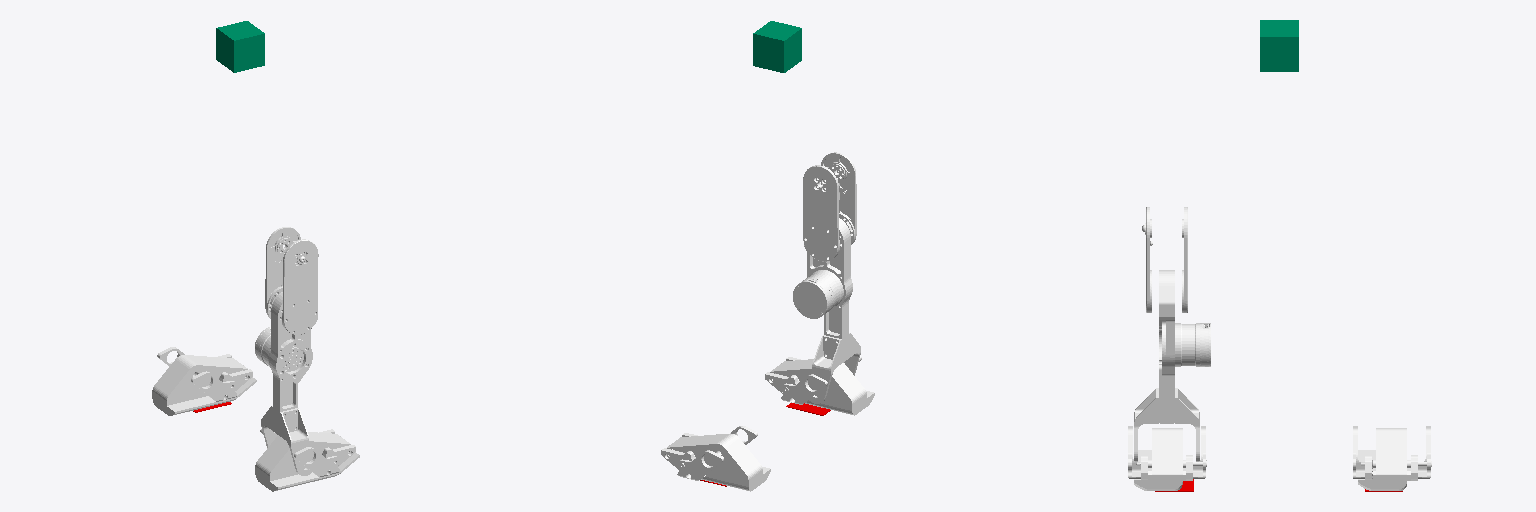
URDF robot description (fairy):
<?xml version="1.0" ?>
<!-- =================================================================================== -->
<!-- |    This document was autogenerated by xacro from fairy.urdf.xacro               | -->
<!-- |    EDITING THIS FILE BY HAND IS NOT RECOMMENDED                                 | -->
<!-- =================================================================================== -->
<robot name="fairy">
  <!-- link rviz colors -->
  <material name="White">
    <color rgba="1 1 1 1"/>
  </material>
  <material name="Black">
    <color rgba="0 0 0 1"/>
  </material>
  <material name="Red">
    <color rgba="1 0 0 1"/>
  </material>
  <!-- new base link -->
  <link name="base_link">
    </link>
  <!-- joint between base_link and body_link -->
  <joint name="base_to_body" type="fixed">
    <origin rpy="0 0 0" xyz="0 0 0"/>
    <parent link="base_link"/>
    <child link="body_link"/>
  </joint>
  <!-- body link -->
  <link name="body_link">
    <visual>
      <origin rpy="0 0 0" xyz="0 0 0"/>
      <geometry>
        <mesh filename="package://fairy_description/meshes/BASE.STL" scale="1 1 1"/>
        <!-- <mesh filename="package://fairy_description/meshes/base.stl" scale="0.001 0.001 0.001"/> -->
      </geometry>
      <material name="White"/>
    </visual>
    <collision>
      <origin rpy="0 0 0" xyz="0 0 0"/>
      <geometry>
        <mesh filename="package://fairy_description/meshes/BASE.STL" scale="1 1 1"/>
      </geometry>
    </collision>
    <inertial>
      <mass value="12.72349"/>
      <origin rpy="0 0 0" xyz="-0.00 0.00 -0.00474"/>
      <inertia ixx="0.1" ixy="0.0000" ixz="0.000000" iyy="0.1" iyz="0.0" izz="0.1"/>
    </inertial>
  </link>
  <!-- IMU sensor -->
  <link name="imu_link">
    <inertial>
      <mass value="0.001"/>
      <origin rpy="0 0 0" xyz="0 0 0"/>
      <inertia ixx="0.000001" ixy="0.0" ixz="0.0" iyy="0.000001" iyz="0.0" izz="0.000001"/>
    </inertial>
    <visual>
      <geometry>
        <box size="0.05 0.05 0.05"/>
      </geometry>
      <origin rpy="0 0 0" xyz="0 0 0"/>
    </visual>
  </link>
  <joint name="base_to_imu" type="fixed">
    <parent link="base_link"/>
    <child link="imu_link"/>
    <origin rpy="0 0 0" xyz="0 0 0"/>
  </joint>
  <gazebo>
    <plugin filename="libgazebo_ros_imu.so" name="imu_plugin">
      <ros>
        <remapping>my_imu:=/imu/data</remapping>
      </ros>
      <alwaysOn>true</alwaysOn>
      <updateRate>50.0</updateRate>
      <bodyName>imu_link</bodyName>
      <gaussianNoise>0.0</gaussianNoise>
    </plugin>
  </gazebo>
  <!-- left forward joint -->
  <joint name="base_to_left_forward_base" type="fixed">
    <origin rpy="0 0 0" xyz="0.000 0.0800 0"/>
    <parent link="body_link"/>
    <child link="L_FOOT"/>
  </joint>
  <!-- base link -->
  <link name="L_FOOT">
    <inertial>
      <mass value="0.001"/>
      <inertia ixx="0.000000" ixy="0.000000" ixz="0.000000" iyy="0.000000" iyz="0.000000" izz="0.000000"/>
    </inertial>
  </link>
  <!-- joint 1 -->
  <joint name="L_CROTCH_R" type="revolute">
    <origin rpy="0 0 0" xyz="0 0 0.0"/>
    <axis rpy="0 0 0" xyz="1 0 0"/>
    <limit effort="1000.0" lower="-2.0943951023931953" upper="2.0943951023931953" velocity="2.0943951023931953"/>
    <parent link="L_FOOT"/>
    <child link="L1"/>
  </joint>
  <!-- link 1 -->
  <link name="L1">
    <visual>
      <origin rpy="0 0 0" xyz="0 0 0"/>
      <geometry>
        <mesh filename="package://fairy_description/meshes/LHIP.STL"/>
      </geometry>
      <material name="White"/>
    </visual>
    <collision>
      <origin rpy="0 0 0" xyz="0 0 0"/>
      <geometry>
        <mesh filename="package://fairy_description/meshes/LHIP.STL" scale="0.002 0.002 0.002"/>
      </geometry>
      <surface>
        <friction>
          <ode>
            <mu>1.0</mu>
            <mu2>1.0</mu2>
          </ode>
        </friction>
      </surface>
    </collision>
    <inertial>
      <origin xyz="-0.00 -0.0 0.00000"/>
      <mass value="1.23047"/>
      <inertia ixx="0.1" ixy="0.0000" ixz="0.000000" iyy="0.1" iyz="0.0" izz="0.1"/>
    </inertial>
  </link>
  <!-- joint 2 -->
  <joint name="L_CROTCH_P" type="revolute">
    <origin rpy="0 0 0" xyz="0 0.065 0"/>
    <axis rpy="0 0 0" xyz="0 1 0"/>
    <limit effort="1000.0" lower="-2.9670597283903604" upper="0.5235987755982988" velocity="2.0943951023931953"/>
    <parent link="L1"/>
    <child link="L2"/>
  </joint>
  <!-- link 2 -->
  <link name="L2">
    <visual>
      <origin rpy="0 0 0" xyz="0 0 0"/>
      <geometry>
        <mesh filename="package://fairy_description/meshes/LULEG.STL"/>
      </geometry>
      <material name="White"/>
    </visual>
    <collision>
      <origin rpy="0 0 0" xyz="0 0 0"/>
      <geometry>
        <mesh filename="package://fairy_description/meshes/LULEG.STL"/>
      </geometry>
      <surface>
        <friction>
          <ode>
            <mu>1.0</mu>
            <mu2>1.0</mu2>
          </ode>
        </friction>
      </surface>
    </collision>
    <inertial>
      <origin xyz="0.00006 -0.0 -0.05962"/>
      <mass value="2.06632"/>
      <inertia ixx="0.1" ixy="0.0000" ixz="0.000000" iyy="0.1" iyz="0.0" izz="0.1"/>
    </inertial>
  </link>
  <!-- joint 3 -->
  <joint name="L_KNEE_P" type="revolute">
    <axis rpy="0 0 0" xyz="0 1 0"/>
    <limit effort="1000.0" lower="-2.0943951023931953" upper="3.141592653589793" velocity="2.0943951023931953"/>
    <origin rpy="0 0 0" xyz="0 0 -0.2600"/>
    <parent link="L2"/>
    <child link="L3"/>
  </joint>
  <!-- link 3 -->
  <link name="L3">
    <visual>
      <origin rpy="0 0 0" xyz="0 0 0"/>
      <geometry>
        <mesh filename="package://fairy_description/meshes/LLLEG.STL"/>
      </geometry>
      <material name="White"/>
    </visual>
    <collision>
      <origin rpy="0 0 0" xyz="0 0 0"/>
      <geometry>
        <mesh filename="package://fairy_description/meshes/LLLEG.STL"/>
      </geometry>
      <surface>
        <friction>
          <ode>
            <mu>1.0</mu>
            <mu2>1.0</mu2>
          </ode>
        </friction>
      </surface>
    </collision>
    <inertial>
      <origin xyz="0.00000 -0.00 -0.19822"/>
      <mass value="0.41492"/>
      <inertia ixx="0.1" ixy="0.0000" ixz="0.000000" iyy="0.1" iyz="0.0" izz="0.1"/>
    </inertial>
  </link>
  <!-- joint 4 -->
  <joint name="L_TOE_P" type="revolute">
    <axis rpy="0 0 0" xyz="0 1 0"/>
    <limit effort="1000.0" lower="-2.0943951023931953" upper="2.0943951023931953" velocity="2.0943951023931953"/>
    <origin rpy="0 0 0" xyz="0 0 -0.30056"/>
    <parent link="L3"/>
    <child link="L4"/>
  </joint>
  <!-- link 4 -->
  <link name="L4">
    <visual>
      <origin rpy="0 0 0" xyz="0 0 0"/>
      <geometry>
        <mesh filename="package://fairy_description/meshes/LTOE.STL"/>
      </geometry>
      <material name="White"/>
    </visual>
    <collision>
      <origin rpy="0 0 0" xyz="0 0 0"/>
      <geometry>
        <mesh filename="package://fairy_description/meshes/LTOE.STL"/>
      </geometry>
      <surface>
        <friction>
          <ode>
            <mu>1.0</mu>
            <mu2>1.0</mu2>
          </ode>
        </friction>
      </surface>
    </collision>
    <inertial>
      <origin xyz="0.00000 -0.00 -0.04246"/>
      <mass value="0.001"/>
      <inertia ixx="0.1" ixy="0.0000" ixz="0.000000" iyy="0.1" iyz="0.0" izz="0.1"/>
    </inertial>
  </link>
  <!-- tip link with spring-damper system -->
  <joint name="L_TIP" type="fixed">
    <origin rpy="0 0 0" xyz="0.0 0 -0.035"/>
    <parent link="L4"/>
    <child link="L_TIP"/>
    <dynamics damping="0.05" spring_stiffness="1000.0"/>
  </joint>
  <link name="L_TIP">
    <visual>
      <origin rpy="0 0 0" xyz="0.02 -0.01 -0.015"/>
      <geometry>
        <box size="0.06 0.05 0.001"/>
      </geometry>
      <material name="Red"/>
    </visual>
    <collision>
      <origin rpy="0 0 0" xyz="0 0 0"/>
      <geometry>
        <box size="0.06 0.05 0.001"/>
      </geometry>
      <surface>
        <friction>
          <ode>
            <mu>1.5</mu>
            <mu2>1.5</mu2>
          </ode>
        </friction>
      </surface>
    </collision>
    <inertial>
      <origin xyz="0 0 0"/>
      <mass value="0.001"/>
      <inertia ixx="0.0001" ixy="0.0001" ixz="0.0001" iyy="0.0001" iyz="0.0001" izz="0.0001"/>
    </inertial>
  </link>
  <gazebo reference="L_TIP">
    <material>Gazebo/Red</material>
    <kp>1000000.0</kp>
    <kd>100.0</kd>
    <mu1>1.5</mu1>
    <mu2>1.5</mu2>
    <fdir1>1 0 0</fdir1>
    <maxVel>1.0</maxVel>
    <minDepth>0.001</minDepth>
  </gazebo>
  <!-- transmissions -->
  <transmission name="L_transmission1">
    <type>transmission_interface/SimpleTransmission</type>
    <joint name="L_CROTCH_R">
      <!-- <hardwareInterface>hardware_interface/PositionJointInterface</hardwareInterface> -->
      <hardwareInterface>hardware_interface/EffortJointInterface</hardwareInterface>
    </joint>
    <actuator name="L_actuator1">
      <mechanicalReduction>1</mechanicalReduction>
    </actuator>
  </transmission>
  <transmission name="L_transmission2">
    <type>transmission_interface/SimpleTransmission</type>
    <joint name="L_CROTCH_P">
      <!-- <hardwareInterface>hardware_interface/PositionJointInterface</hardwareInterface> -->
      <hardwareInterface>hardware_interface/EffortJointInterface</hardwareInterface>
    </joint>
    <actuator name="L_actuator2">
      <mechanicalReduction>1</mechanicalReduction>
    </actuator>
  </transmission>
  <transmission name="L_transmission3">
    <type>transmission_interface/SimpleTransmission</type>
    <joint name="L_KNEE_P">
      <!-- <hardwareInterface>hardware_interface/PositonJointInterface</hardwareInterface> -->
      <hardwareInterface>hardware_interface/EffortJointInterface</hardwareInterface>
    </joint>
    <actuator name="L_actuator3">
      <mechanicalReduction>1</mechanicalReduction>
    </actuator>
  </transmission>
  <transmission name="L_transmission4">
    <type>transmission_interface/SimpleTransmission</type>
    <joint name="L_TOE_P">
      <!-- <hardwareInterface>hardware_interface/PositonJointInterface</hardwareInterface> -->
      <hardwareInterface>hardware_interface/EffortJointInterface</hardwareInterface>
    </joint>
    <actuator name="L_actuator4">
      <mechanicalReduction>1</mechanicalReduction>
    </actuator>
  </transmission>
  <!-- right forward joint -->
  <joint name="base_to_right_forward_base" type="fixed">
    <origin rpy="0 0 0" xyz="0.000 -0.0800 0"/>
    <parent link="body_link"/>
    <child link="R_FOOT"/>
  </joint>
  <!-- base link -->
  <link name="R_FOOT">
    <inertial>
      <mass value="0.001"/>
      <inertia ixx="0.000000" ixy="0.000000" ixz="0.000000" iyy="0.000000" iyz="0.000000" izz="0.000000"/>
    </inertial>
  </link>
  <!-- joint 1 -->
  <joint name="R_CROTCH_R" type="revolute">
    <origin rpy="0 0 0" xyz="0 0 0.0"/>
    <axis rpy="0 0 0" xyz="1 0 0"/>
    <limit effort="1000.0" lower="-2.0943951023931953" upper="2.0943951023931953" velocity="2.0943951023931953"/>
    <parent link="R_FOOT"/>
    <child link="R1"/>
  </joint>
  <!-- link 1 -->
  <link name="R1">
    <visual>
      <origin rpy="0 0 0" xyz="0 0 0"/>
      <geometry>
        <mesh filename="package://fairy_description/meshes/RHIP.STL"/>
      </geometry>
      <material name="White"/>
    </visual>
    <collision>
      <origin rpy="0 0 0" xyz="0 0 0"/>
      <geometry>
        <mesh filename="package://fairy_description/meshes/RHIP.STL" scale="0.002 0.002 0.002"/>
      </geometry>
      <surface>
        <friction>
          <ode>
            <mu>1.0</mu>
            <mu2>1.0</mu2>
          </ode>
        </friction>
      </surface>
    </collision>
    <inertial>
      <origin xyz="-0.00 -0.0 0.00000"/>
      <mass value="1.23047"/>
      <inertia ixx="0.1" ixy="0.0000" ixz="0.000000" iyy="0.1" iyz="0.0" izz="0.1"/>
    </inertial>
  </link>
  <!-- joint 2 -->
  <joint name="R_CROTCH_P" type="revolute">
    <origin rpy="0 0 0" xyz="0 -0.065  0"/>
    <axis rpy="0 0 0" xyz="0 1 0"/>
    <limit effort="1000.0" lower="-2.9670597283903604" upper="0.5235987755982988" velocity="2.0943951023931953"/>
    <parent link="R1"/>
    <child link="R2"/>
  </joint>
  <!-- link 2 -->
  <link name="R2">
    <visual>
      <origin rpy="0 0 0" xyz="0 0 0"/>
      <geometry>
        <mesh filename="package://fairy_description/meshes/RULEG.STL"/>
      </geometry>
      <material name="White"/>
    </visual>
    <collision>
      <origin rpy="0 0 0" xyz="0 0 0"/>
      <geometry>
        <mesh filename="package://fairy_description/meshes/RULEG.STL"/>
      </geometry>
      <surface>
        <friction>
          <ode>
            <mu>1.0</mu>
            <mu2>1.0</mu2>
          </ode>
        </friction>
      </surface>
    </collision>
    <inertial>
      <origin xyz="0.00006 -0.0 -0.05962"/>
      <mass value="2.06632"/>
      <inertia ixx="0.1" ixy="0.0000" ixz="0.000000" iyy="0.1" iyz="0.0" izz="0.1"/>
    </inertial>
  </link>
  <!-- joint 3 -->
  <joint name="R_KNEE_P" type="revolute">
    <axis rpy="0 0 0" xyz="0 1 0"/>
    <limit effort="1000.0" lower="-2.0943951023931953" upper="3.141592653589793" velocity="2.0943951023931953"/>
    <origin rpy="0 0 0" xyz="0 0 -0.2600"/>
    <parent link="R2"/>
    <child link="R3"/>
  </joint>
  <!-- link 3 -->
  <link name="R3">
    <visual>
      <origin rpy="0 0 0" xyz="0 0 0"/>
      <geometry>
        <mesh filename="package://fairy_description/meshes/RLLEG.STL"/>
      </geometry>
      <material name="White"/>
    </visual>
    <collision>
      <origin rpy="0 0 0" xyz="0 0 0"/>
      <geometry>
        <mesh filename="package://fairy_description/meshes/RLLEG.STL"/>
      </geometry>
      <surface>
        <friction>
          <ode>
            <mu>1.0</mu>
            <mu2>1.0</mu2>
          </ode>
        </friction>
      </surface>
    </collision>
    <inertial>
      <origin xyz="0.00000 -0.00 -0.19822"/>
      <mass value="0.41492"/>
      <inertia ixx="0.1" ixy="0.0000" ixz="0.000000" iyy="0.1" iyz="0.0" izz="0.1"/>
    </inertial>
  </link>
  <!-- joint 4 -->
  <joint name="R_TOE_P" type="revolute">
    <axis rpy="0 0 0" xyz="0 1 0"/>
    <limit effort="1000.0" lower="-2.0943951023931953" upper="2.0943951023931953" velocity="2.0943951023931953"/>
    <origin rpy="0 0 0" xyz="0 0 -0.30056"/>
    <parent link="R3"/>
    <child link="R4"/>
  </joint>
  <!-- link 4 -->
  <link name="R4">
    <visual>
      <origin rpy="0 0 0" xyz="0 0 0"/>
      <geometry>
        <mesh filename="package://fairy_description/meshes/RTOE.STL"/>
      </geometry>
      <material name="White"/>
    </visual>
    <collision>
      <origin rpy="0 0 0" xyz="0 0 0"/>
      <geometry>
        <mesh filename="package://fairy_description/meshes/RTOE.STL"/>
      </geometry>
      <surface>
        <friction>
          <ode>
            <mu>1.0</mu>
            <mu2>1.0</mu2>
          </ode>
        </friction>
      </surface>
    </collision>
    <inertial>
      <origin xyz="0.00000 -0.00 -0.04246"/>
      <mass value="0.001"/>
      <inertia ixx="0.1" ixy="0.0000" ixz="0.000000" iyy="0.1" iyz="0.0" izz="0.1"/>
    </inertial>
  </link>
  <!-- tip link with spring-damper system -->
  <joint name="R_TIP" type="fixed">
    <origin rpy="0 0 0" xyz="0.0 0 -0.035"/>
    <parent link="R4"/>
    <child link="R_TIP"/>
    <dynamics damping="0.05" spring_stiffness="1000.0"/>
  </joint>
  <link name="R_TIP">
    <visual>
      <origin rpy="0 0 0" xyz="0.02 0.01  -0.015"/>
      <geometry>
        <box size="0.06 0.05 0.001"/>
      </geometry>
      <material name="Red"/>
    </visual>
    <collision>
      <origin rpy="0 0 0" xyz="0 0 0"/>
      <geometry>
        <box size="0.06 0.05 0.001"/>
      </geometry>
      <surface>
        <friction>
          <ode>
            <mu>1.5</mu>
            <mu2>1.5</mu2>
          </ode>
        </friction>
      </surface>
    </collision>
    <inertial>
      <origin xyz="0 0 0"/>
      <mass value="0.001"/>
      <inertia ixx="0.0001" ixy="0.0001" ixz="0.0001" iyy="0.0001" iyz="0.0001" izz="0.0001"/>
    </inertial>
  </link>
  <gazebo reference="R_TIP">
    <material>Gazebo/Red</material>
    <kp>1000000.0</kp>
    <kd>100.0</kd>
    <mu1>1.5</mu1>
    <mu2>1.5</mu2>
    <fdir1>1 0 0</fdir1>
    <maxVel>1.0</maxVel>
    <minDepth>0.001</minDepth>
  </gazebo>
  <!-- transmissions -->
  <transmission name="R_transmission1">
    <type>transmission_interface/SimpleTransmission</type>
    <joint name="R_CROTCH_R">
      <!-- <hardwareInterface>hardware_interface/PositionJointInterface</hardwareInterface> -->
      <hardwareInterface>hardware_interface/EffortJointInterface</hardwareInterface>
    </joint>
    <actuator name="R_actuator1">
      <mechanicalReduction>1</mechanicalReduction>
    </actuator>
  </transmission>
  <transmission name="R_transmission2">
    <type>transmission_interface/SimpleTransmission</type>
    <joint name="R_CROTCH_P">
      <!-- <hardwareInterface>hardware_interface/PositionJointInterface</hardwareInterface> -->
      <hardwareInterface>hardware_interface/EffortJointInterface</hardwareInterface>
    </joint>
    <actuator name="R_actuator2">
      <mechanicalReduction>1</mechanicalReduction>
    </actuator>
  </transmission>
  <transmission name="R_transmission3">
    <type>transmission_interface/SimpleTransmission</type>
    <joint name="R_KNEE_P">
      <!-- <hardwareInterface>hardware_interface/PositonJointInterface</hardwareInterface> -->
      <hardwareInterface>hardware_interface/EffortJointInterface</hardwareInterface>
    </joint>
    <actuator name="R_actuator3">
      <mechanicalReduction>1</mechanicalReduction>
    </actuator>
  </transmission>
  <transmission name="R_transmission4">
    <type>transmission_interface/SimpleTransmission</type>
    <joint name="R_TOE_P">
      <!-- <hardwareInterface>hardware_interface/PositonJointInterface</hardwareInterface> -->
      <hardwareInterface>hardware_interface/EffortJointInterface</hardwareInterface>
    </joint>
    <actuator name="R_actuator4">
      <mechanicalReduction>1</mechanicalReduction>
    </actuator>
  </transmission>
  <gazebo>
    <plugin filename="libgazebo_ros_control.so" name="gazebo_ros_control">
      <robotNamespace>/fairy</robotNamespace>
    </plugin>
  </gazebo>
</robot>

--- Facts derived from the render (not from the file) ---
3 views of the same robot in one strip: view 1: azimuth 30°, elevation 25°; view 2: azimuth 150°, elevation 25°; view 3: azimuth 270°, elevation 25° (orthographic).
Model fairy with 15 links and 14 joints (8 revolute, 6 fixed), rooted at base_link, posed all joints at 0.
Visible links, largest first — view 1: R3, L4, R4, imu_link; view 2: R3, L4, R4, imu_link; view 3: R3, L4, R4, imu_link.
Link boxes in pixels (x1,y1,x2,y2): R3: [255, 227, 318, 475]; L4: [152, 347, 256, 415]; R4: [255, 429, 359, 491]; imu_link: [216, 21, 264, 72]; R3: [793, 152, 860, 403]; L4: [661, 426, 770, 491]; R4: [765, 356, 874, 415]; imu_link: [753, 21, 801, 72]; R3: [1134, 207, 1210, 461]; L4: [1353, 426, 1431, 490]; R4: [1128, 426, 1206, 490]; imu_link: [1260, 20, 1298, 71].
Bounding box of the posed robot: 0.133 × 0.3921 × 0.6361 m (x, y, z).
Meshes: 9 distinct files referenced, 3 mesh visuals loaded (3 binary STL); not drawn: 6 (reference not matched to a file when rendering).
